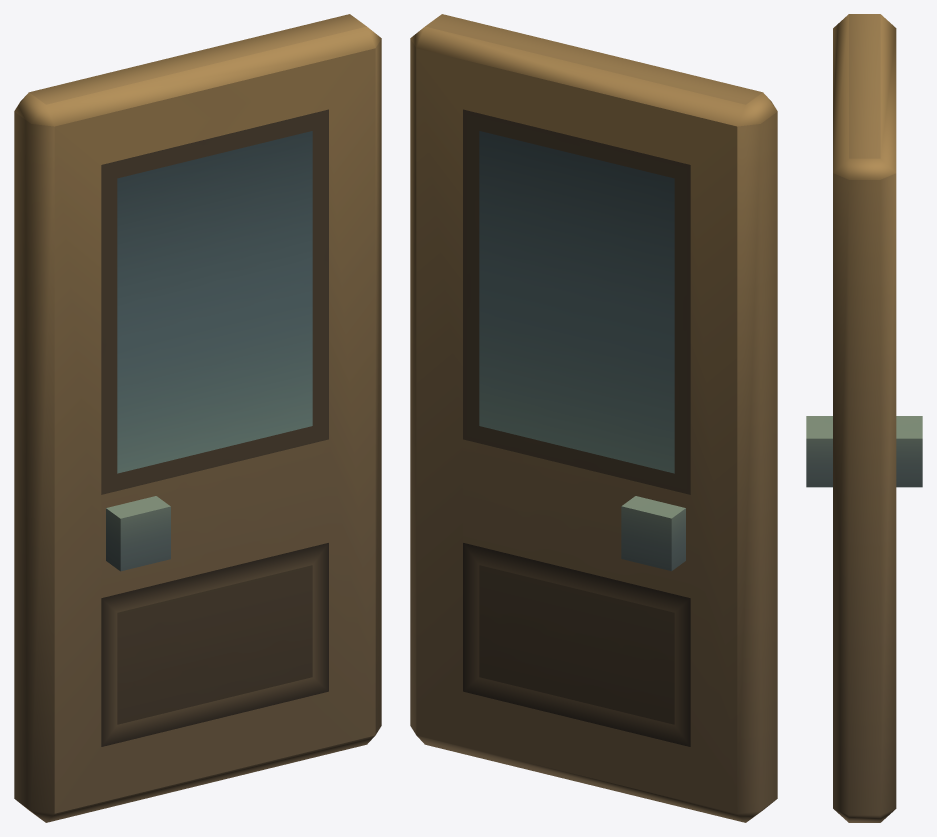
Rendered from door_brown_police_station.fbx.
3 renders of one model, left to right at view 1: azimuth 30°, elevation 25°; view 2: azimuth 150°, elevation 25°; view 3: azimuth 270°, elevation 25°, orthographic. The views are drawn at different scales.
Parts seen in each view (by area): view 1: door_brown_police_station; view 2: door_brown_police_station; view 3: door_brown_police_station.
Boxes of the visible parts, x1,y1,x2,y2 form: door_brown_police_station: (14, 14, 381, 822); door_brown_police_station: (410, 14, 777, 822); door_brown_police_station: (806, 14, 922, 822).
Bounding box in the file's own units: 104 × 204 × 32.5.
